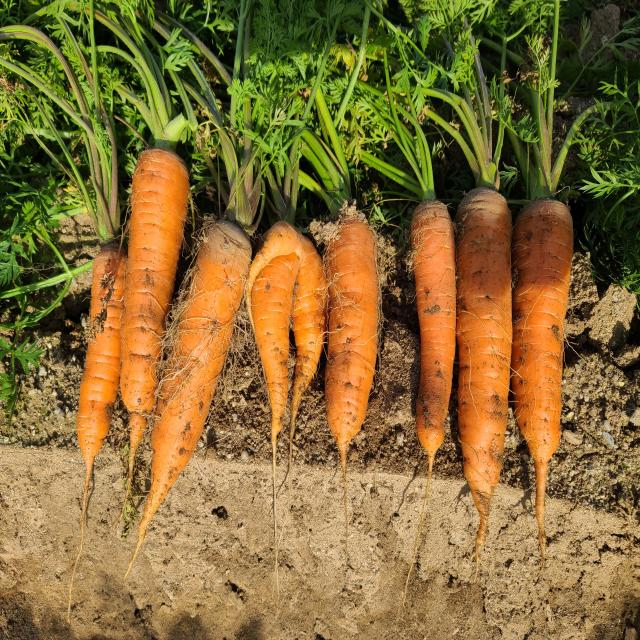carrot: (138, 217, 256, 537), (119, 138, 201, 464), (515, 193, 589, 528), (453, 180, 519, 524), (248, 205, 327, 454), (71, 234, 132, 508), (322, 203, 384, 463), (408, 187, 462, 468)
